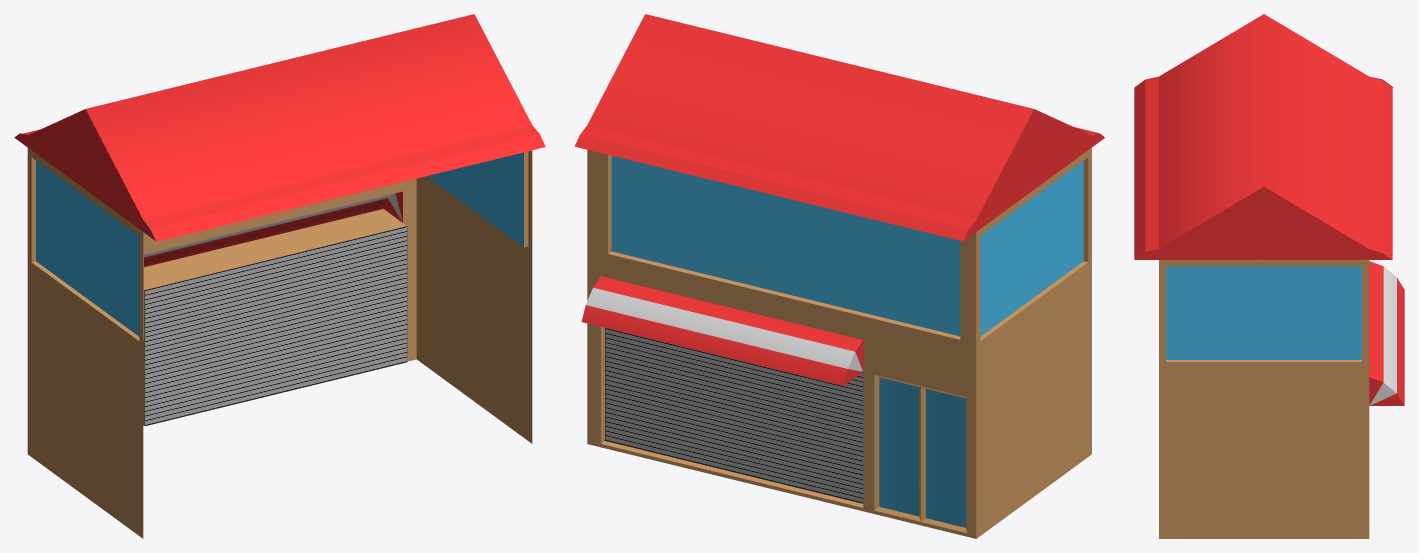
Rendered from building_bakery_2.fbx.
3 views of the same model, side by side, from view 1: azimuth 30°, elevation 25°; view 2: azimuth 150°, elevation 25°; view 3: azimuth 270°, elevation 25° (orthographic). The views are drawn at different scales.
Parts seen in each view (by area): view 1: buildings_bakery; view 2: buildings_bakery; view 3: buildings_bakery.
Boxes of the visible parts, x1,y1,x2,y2 form: buildings_bakery: (14, 14, 545, 538); buildings_bakery: (574, 14, 1104, 538); buildings_bakery: (1134, 14, 1404, 538).
Bounding box in the file's own units: 523 × 498 × 346.
Materials: 2 (2 with a texture image).
